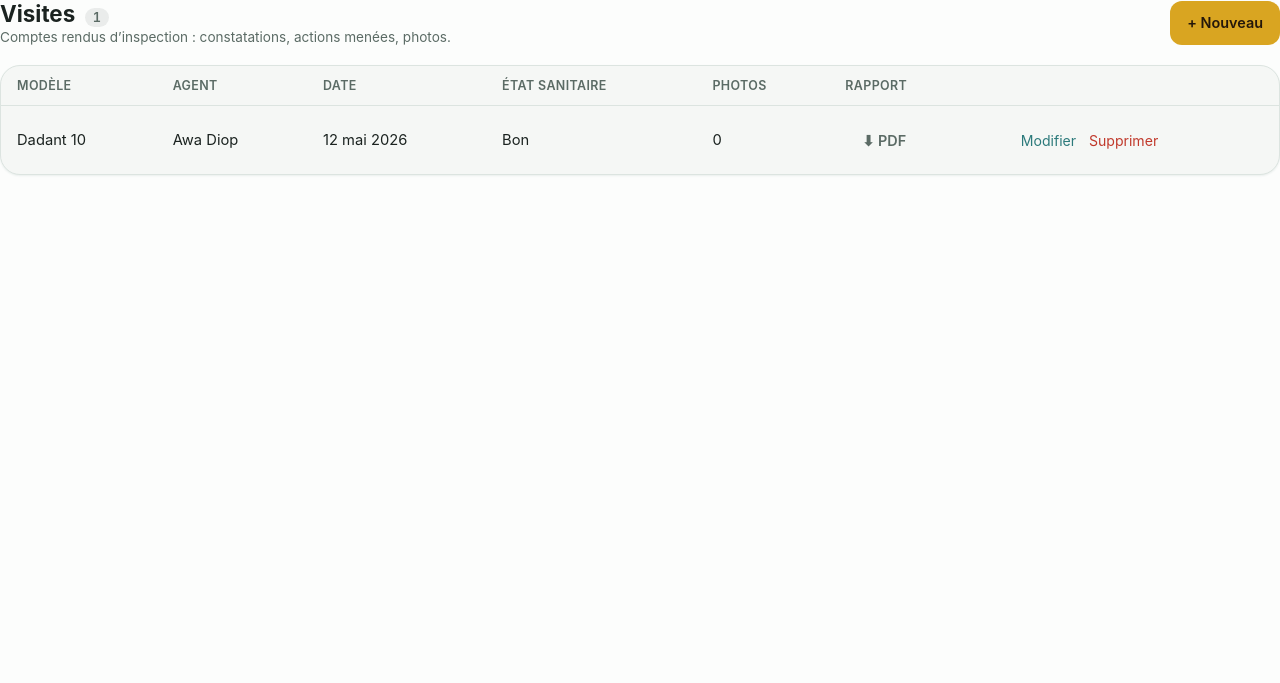
Test case: vue Visites › n’envoie pas de cause de cellules royales sans cellule (SPRINT-20)
This screenshot has width=1280, height=683.
Expected: the text "Dadant 10" is shown, top-left (1, 106), bottom-right (157, 174)
Click the button "Modifier". click: (1048, 140)
box: top-left (1014, 129), bottom-right (1082, 152)
(page scrolled)
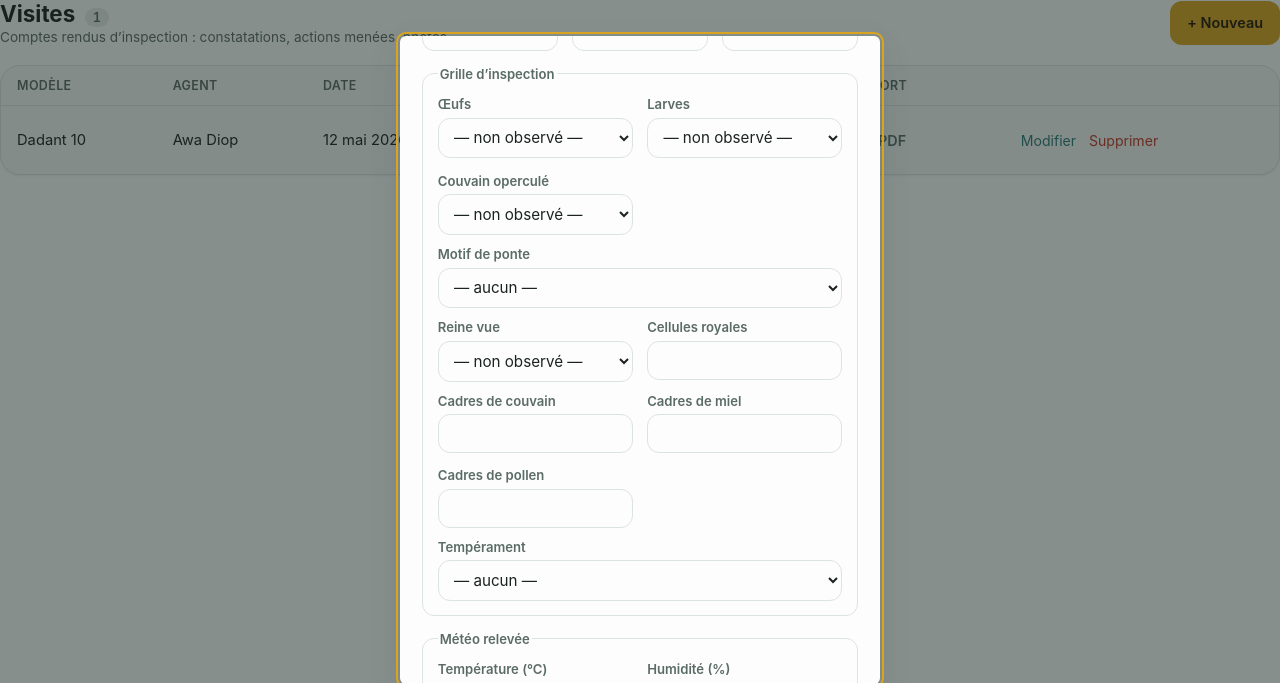
Expected: the field labelled "Cause des cellules" is not shown
Type "3" into the number field labelled "Cellules royales". click: (745, 360)
box: top-left (647, 341), bottom-right (842, 380)
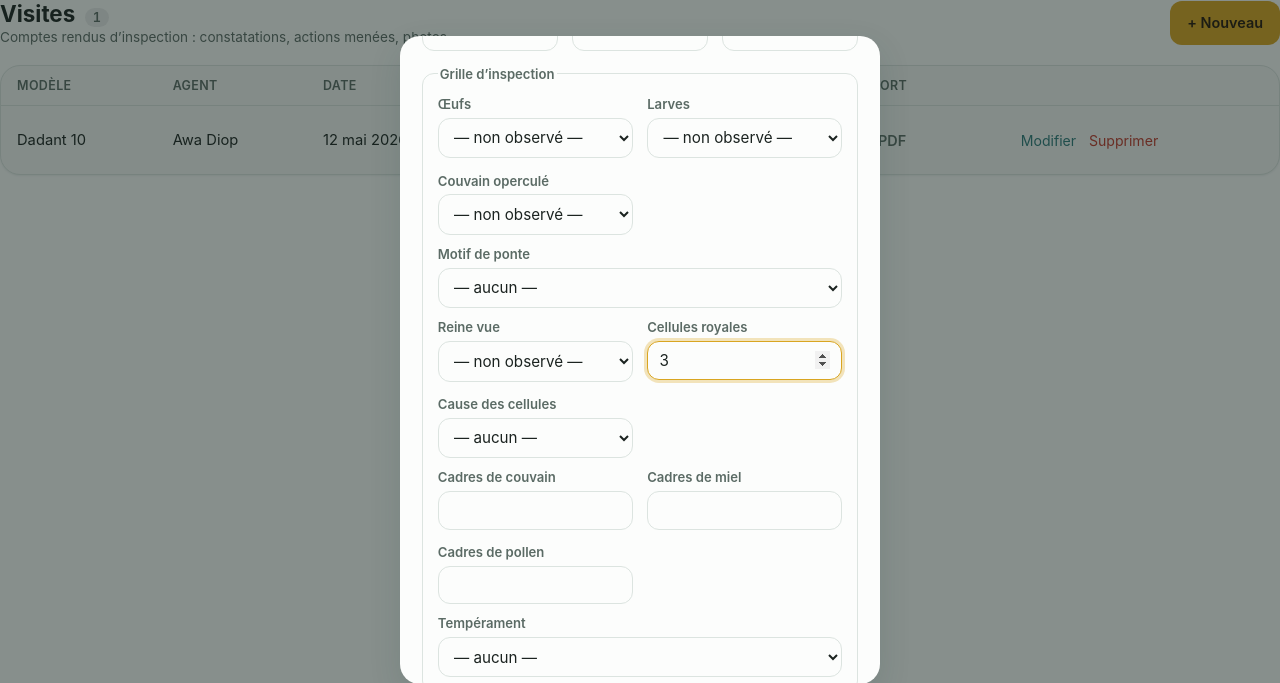
Expected: the dropdown labelled "Cause des cellules" is shown, top-left (438, 418), bottom-right (633, 458)
